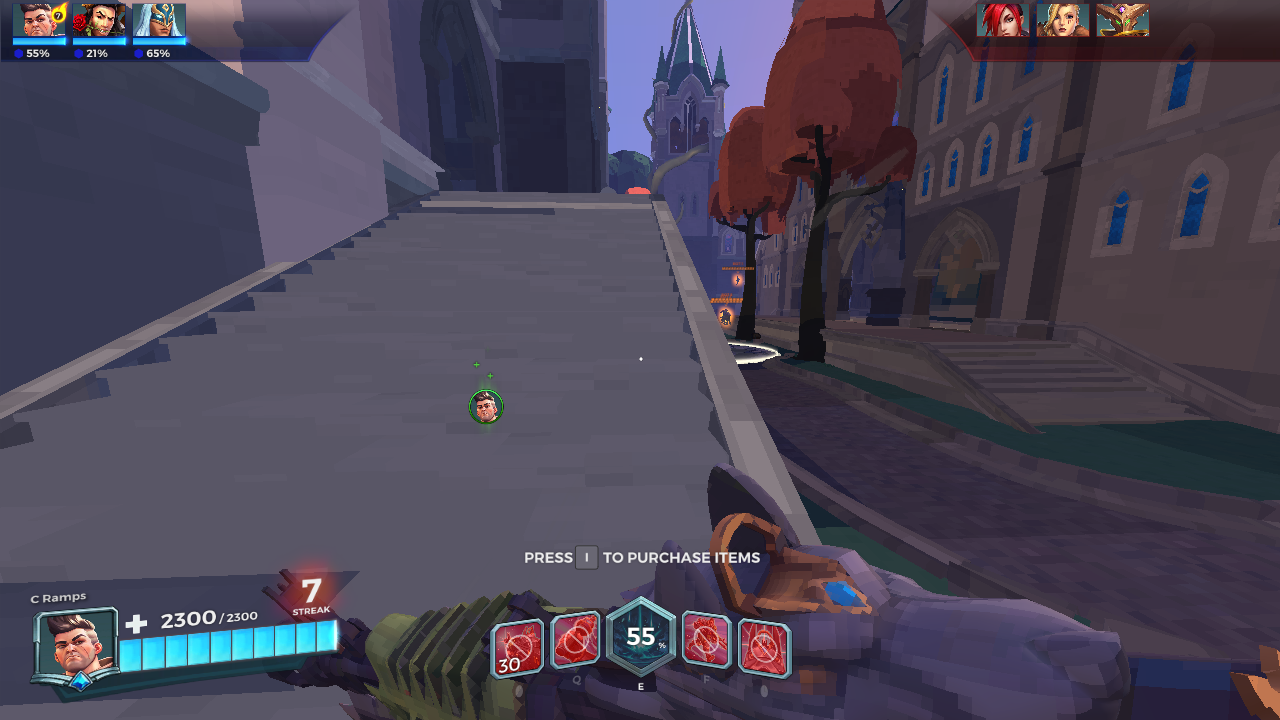model: (719, 299, 732, 328)
